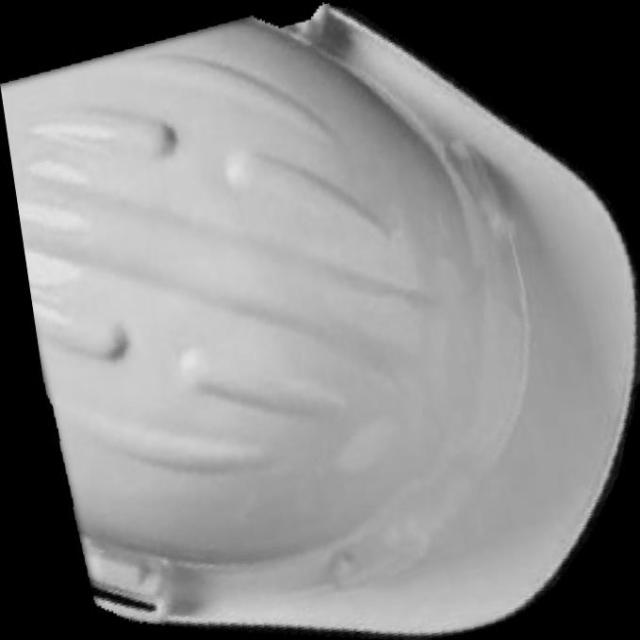construction helmet: (0, 1, 640, 639)
